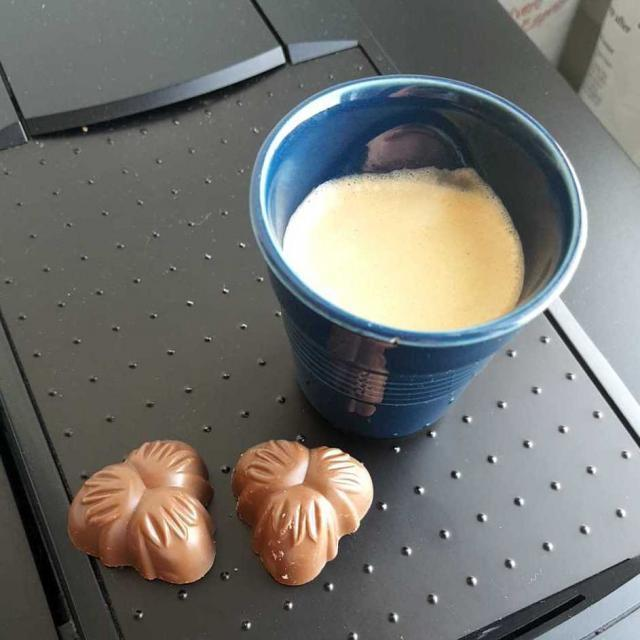chocolate: (232, 441, 372, 585), (68, 442, 213, 581)
drink: (282, 169, 520, 323)
